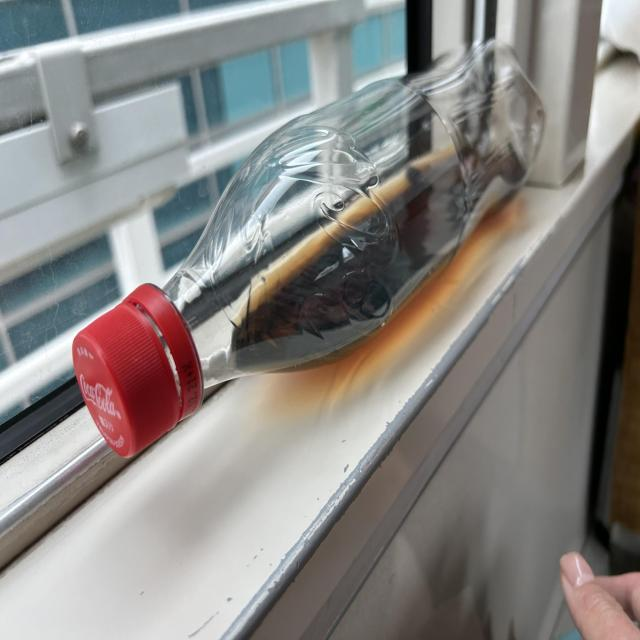low: (72, 40, 543, 457)
